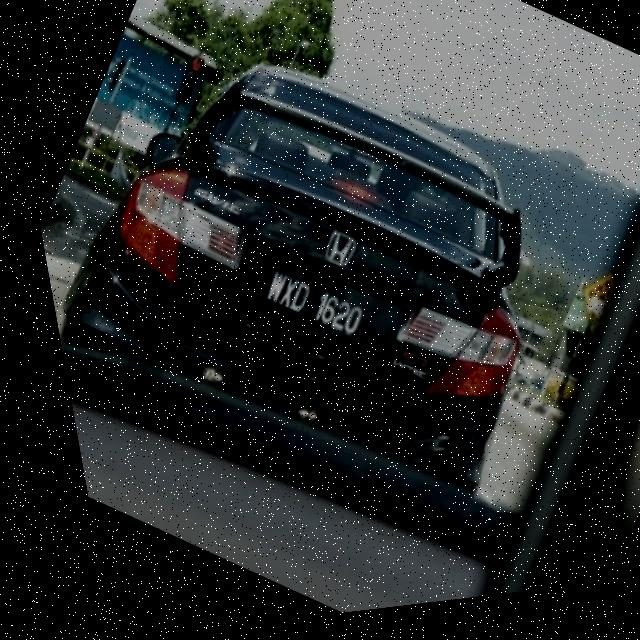license_plate: (202, 230, 398, 393)
